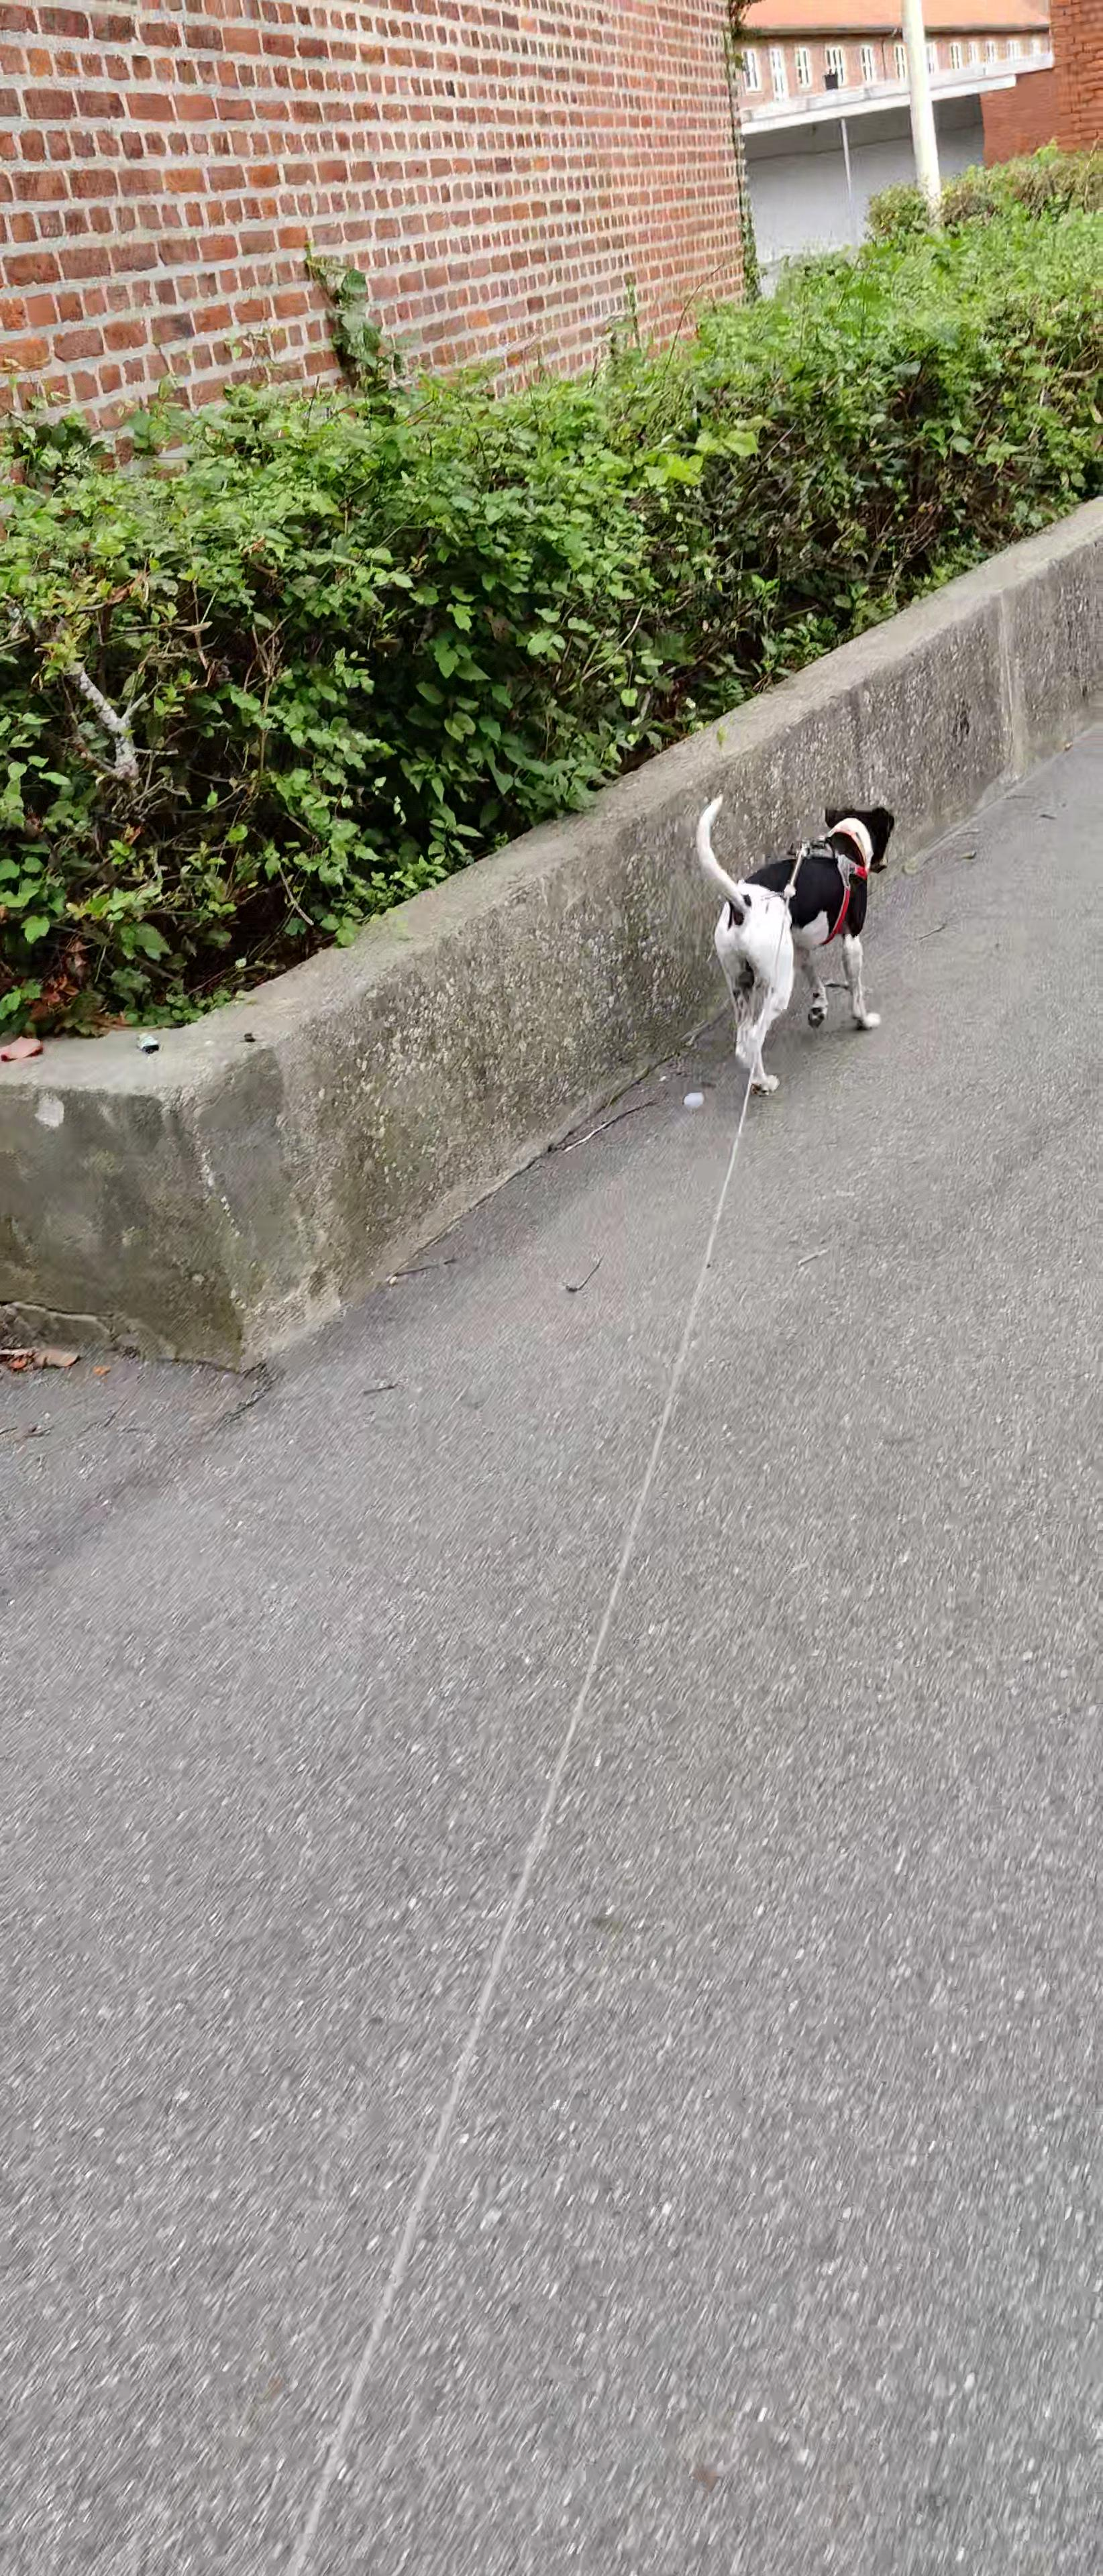Dog: (684, 790, 911, 1101)
